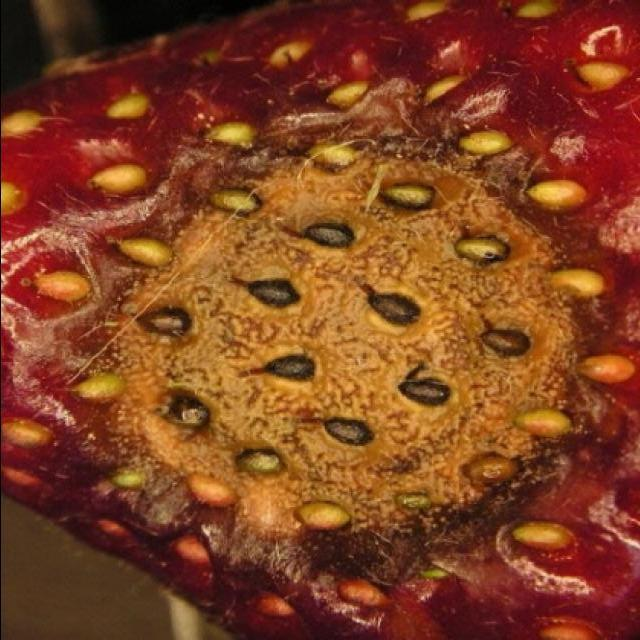Anthracnose Fruit Rot: (35, 70, 633, 607)
